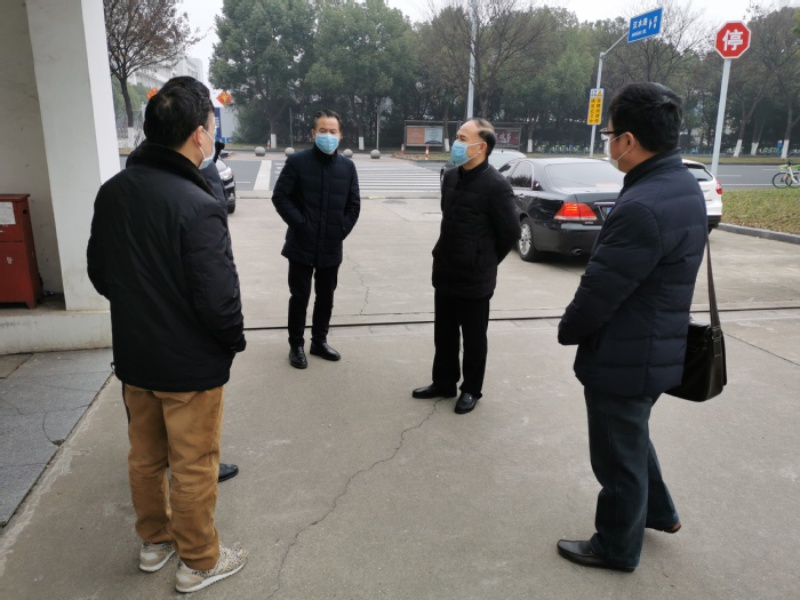ManaoArotava: (445, 116, 501, 179), (304, 107, 350, 158)
